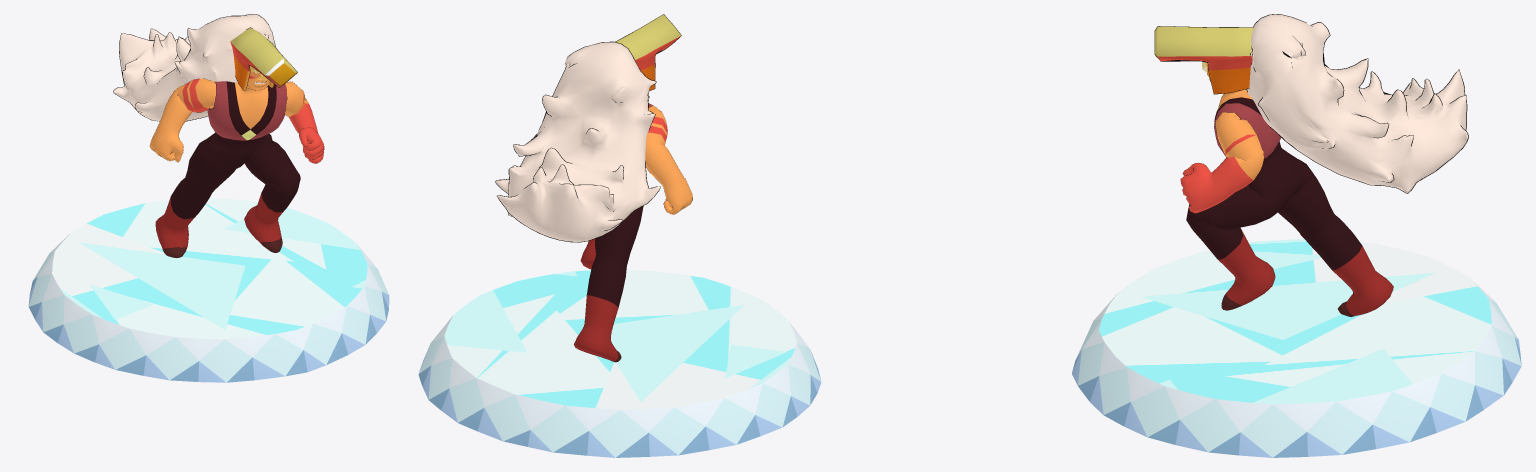
Rendered from Jasper.glb.
3 views of the same model, side by side, from view 1: azimuth 30°, elevation 25°; view 2: azimuth 150°, elevation 25°; view 3: azimuth 270°, elevation 25° (orthographic). The views are drawn at different scales.
Visible parts, largest first — view 1: Object_134, Object_10, Object_12, Object_13, Object_33; view 2: Object_134, Object_12, Object_10, Object_13, Object_33; view 3: Object_134, Object_12, Object_10, Object_13, Object_33, Object_29.
Part boxes in pixels (box(x1,y1,x2,y2)): Object_134: box(28, 198, 389, 382); Object_10: box(150, 66, 324, 257); Object_12: box(113, 14, 274, 121); Object_13: box(230, 27, 297, 89); Object_33: box(113, 14, 275, 121); Object_134: box(418, 269, 821, 457); Object_12: box(495, 42, 660, 241); Object_10: box(574, 103, 692, 362); Object_13: box(615, 14, 681, 90); Object_33: box(495, 41, 660, 242); Object_134: box(1072, 239, 1521, 457); Object_12: box(1247, 14, 1467, 193); Object_10: box(1180, 63, 1393, 316); Object_13: box(1155, 26, 1253, 93); Object_33: box(1246, 14, 1468, 193); Object_29: box(1180, 68, 1393, 316).
Size of the model in its own units: 4.98 by 3.28 by 3.56.
Materials: 8 (6 with a texture image).
